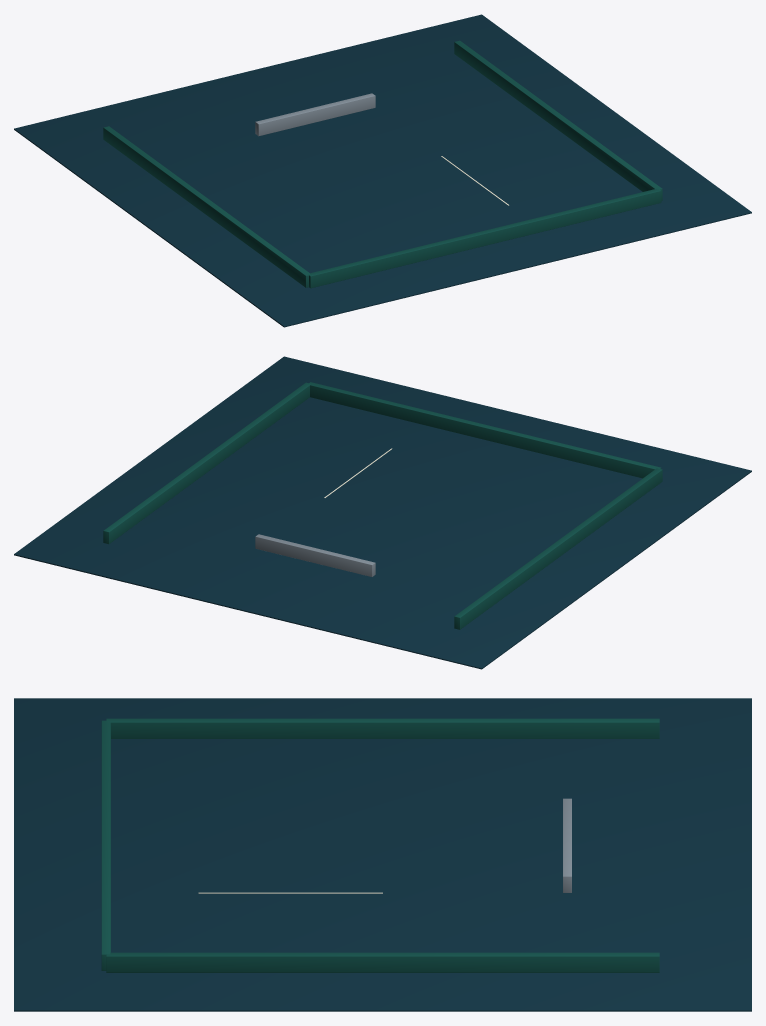
File: s04_track.glb
3 views of the same model, one above another, from view 1: azimuth 30°, elevation 25°; view 2: azimuth 150°, elevation 25°; view 3: azimuth 270°, elevation 25° (orthographic). The views are drawn at different scales.
Visible parts, largest first — view 1: Pad, SouthBoundary, LeftBoundary, RightBoundary, Wall; view 2: Pad, SouthBoundary, LeftBoundary, RightBoundary, Wall; view 3: Pad, RightBoundary, LeftBoundary, SouthBoundary, Wall.
Boxes of the visible parts, x1=… form: Pad: x1=14, y1=14, x2=751, y2=327; SouthBoundary: x1=308, y1=189, x2=661, y2=288; LeftBoundary: x1=103, y1=126, x2=310, y2=287; RightBoundary: x1=454, y1=40, x2=662, y2=200; Wall: x1=255, y1=93, x2=375, y2=136; Pad: x1=14, y1=356, x2=751, y2=669; SouthBoundary: x1=309, y1=382, x2=661, y2=478; LeftBoundary: x1=454, y1=468, x2=662, y2=629; RightBoundary: x1=103, y1=382, x2=310, y2=544; Wall: x1=255, y1=534, x2=375, y2=576; Pad: x1=14, y1=698, x2=751, y2=1011; RightBoundary: x1=106, y1=952, x2=659, y2=972; LeftBoundary: x1=106, y1=718, x2=659, y2=738; SouthBoundary: x1=101, y1=720, x2=110, y2=970; Wall: x1=563, y1=798, x2=571, y2=892.
Size of the model in its own units: 80 by 2.2 by 80.
